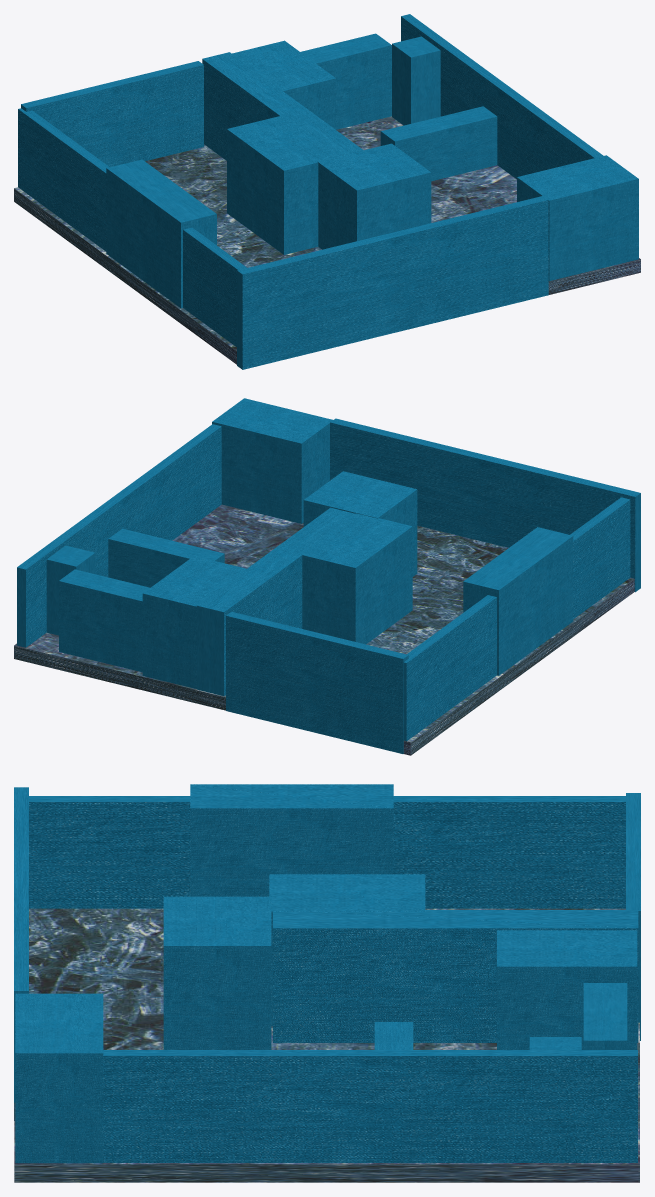
Rendered from FirstStage.fbx.
3 views of the same model, one above another, from view 1: azimuth 30°, elevation 25°; view 2: azimuth 150°, elevation 25°; view 3: azimuth 270°, elevation 25° (orthographic). The views are drawn at different scales.
Parts seen in each view (by area): view 1: Box012, Box001, Box015, Box016, Box011, Box008, Box010, Box009, Box014, Box006, Box004, Box005 (+2 smaller); view 2: Box012, Box001, Box016, Box015, Box014, Box011, Box008, Box010, Box006, Box007, Box005, Box009 (+2 smaller); view 3: Box014, Box015, Box006, Box001, Box010, Box009, Box008, Box007, Box011, Box012, Box005, Box016 (+2 smaller).
Part boxes in pixels (x1=…): Box012: x1=237, y1=196, x2=548, y2=369; Box001: x1=14, y1=116, x2=640, y2=364; Box015: x1=18, y1=108, x2=246, y2=346; Box016: x1=21, y1=61, x2=203, y2=167; Box011: x1=227, y1=115, x2=338, y2=254; Box008: x1=517, y1=155, x2=638, y2=281; Box010: x1=106, y1=159, x2=216, y2=308; Box009: x1=317, y1=143, x2=431, y2=249; Box014: x1=401, y1=14, x2=603, y2=179; Box006: x1=202, y1=52, x2=363, y2=160; Box004: x1=380, y1=106, x2=497, y2=181; Box005: x1=300, y1=33, x2=391, y2=129; Box012: x1=330, y1=418, x2=640, y2=592; Box001: x1=14, y1=504, x2=634, y2=755; Box016: x1=226, y1=611, x2=408, y2=753; Box015: x1=403, y1=497, x2=630, y2=741; Box014: x1=17, y1=424, x2=221, y2=647; Box011: x1=300, y1=513, x2=412, y2=644; Box008: x1=212, y1=398, x2=332, y2=523; Box010: x1=463, y1=527, x2=573, y2=675; Box006: x1=196, y1=507, x2=354, y2=695; Box007: x1=142, y1=556, x2=246, y2=688; Box005: x1=59, y1=569, x2=149, y2=672; Box009: x1=303, y1=471, x2=417, y2=576; Box014: x1=103, y1=1050, x2=637, y2=1162; Box015: x1=29, y1=796, x2=625, y2=908; Box006: x1=273, y1=910, x2=638, y2=1042; Box001: x1=14, y1=908, x2=639, y2=1182; Box010: x1=190, y1=784, x2=393, y2=896; Box009: x1=163, y1=896, x2=271, y2=1049; Box008: x1=15, y1=993, x2=103, y2=1163; Box007: x1=497, y1=930, x2=637, y2=1049; Box011: x1=269, y1=874, x2=425, y2=1026; Box012: x1=14, y1=787, x2=28, y2=1120; Box005: x1=583, y1=983, x2=627, y2=1049; Box016: x1=626, y1=793, x2=640, y2=1040.
Bounding box in the file's own units: 692 × 692 × 166.
Materials: 2 (2 with a texture image).
